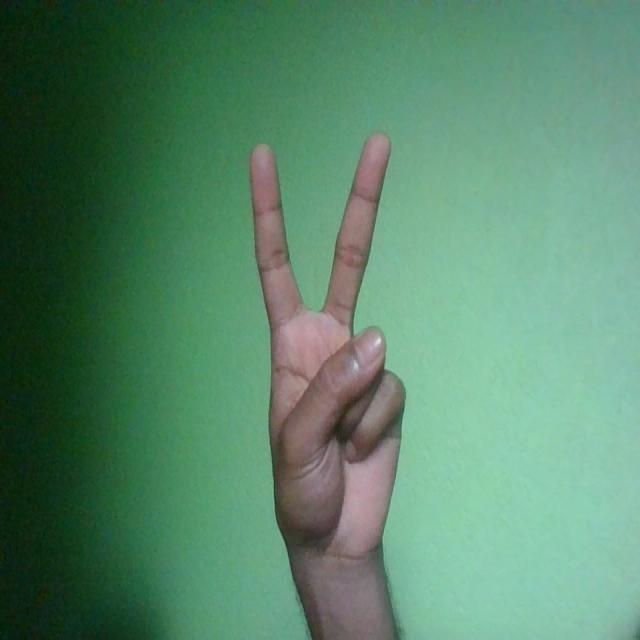Fist: (249, 129, 406, 574)
